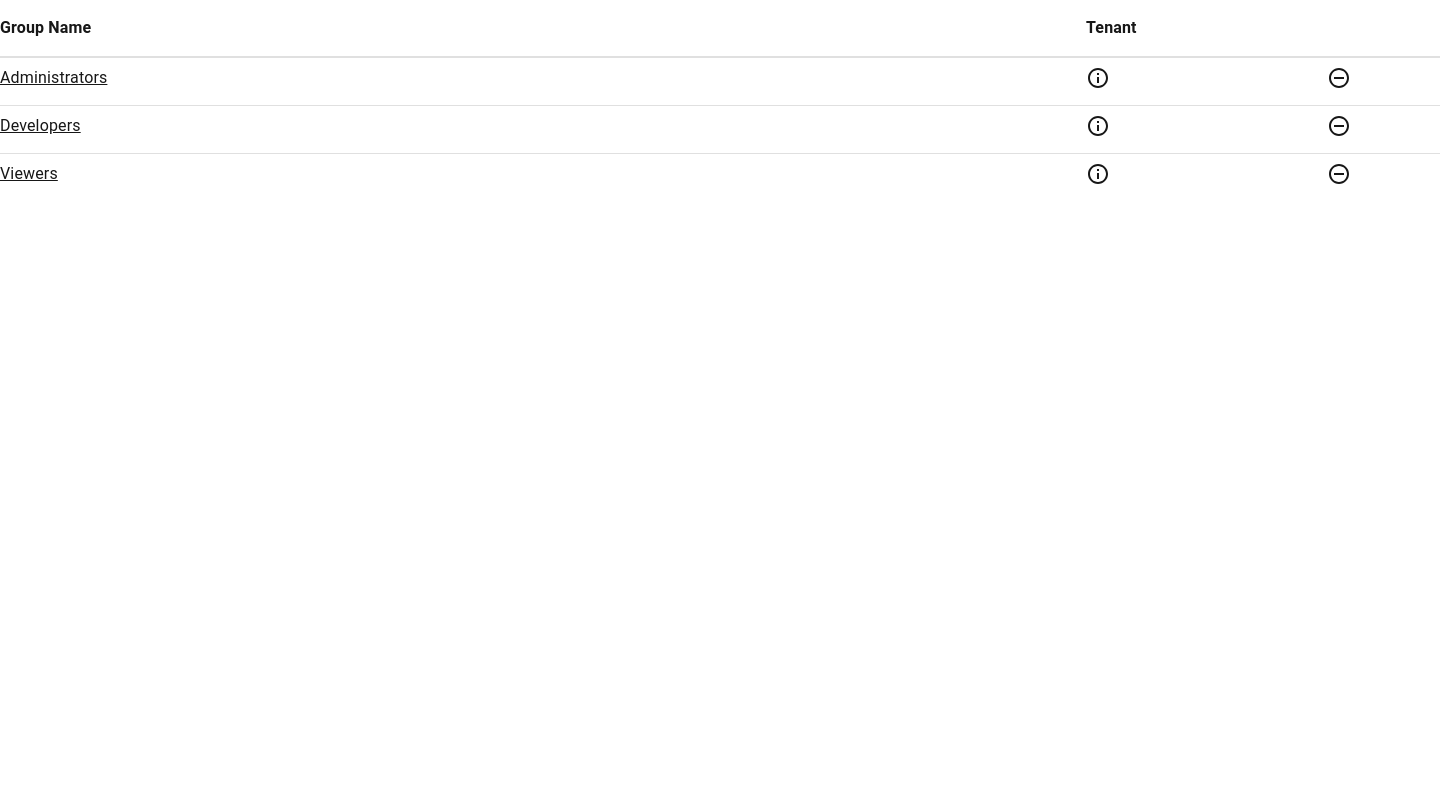
Test case: UserAuthorizationGroupConfiguration › Remove Authorization Group Functionality › should close remove dialog when cancel is clicked
The width and height of the screenshot is (1440, 810).
expect the link "Administrators" is shown: met, box [0, 68, 107, 87]
Click the 1st icon with test id "RemoveCircleOutlineIcon" at {"x": 1339, "y": 78}, box [1327, 66, 1351, 90]
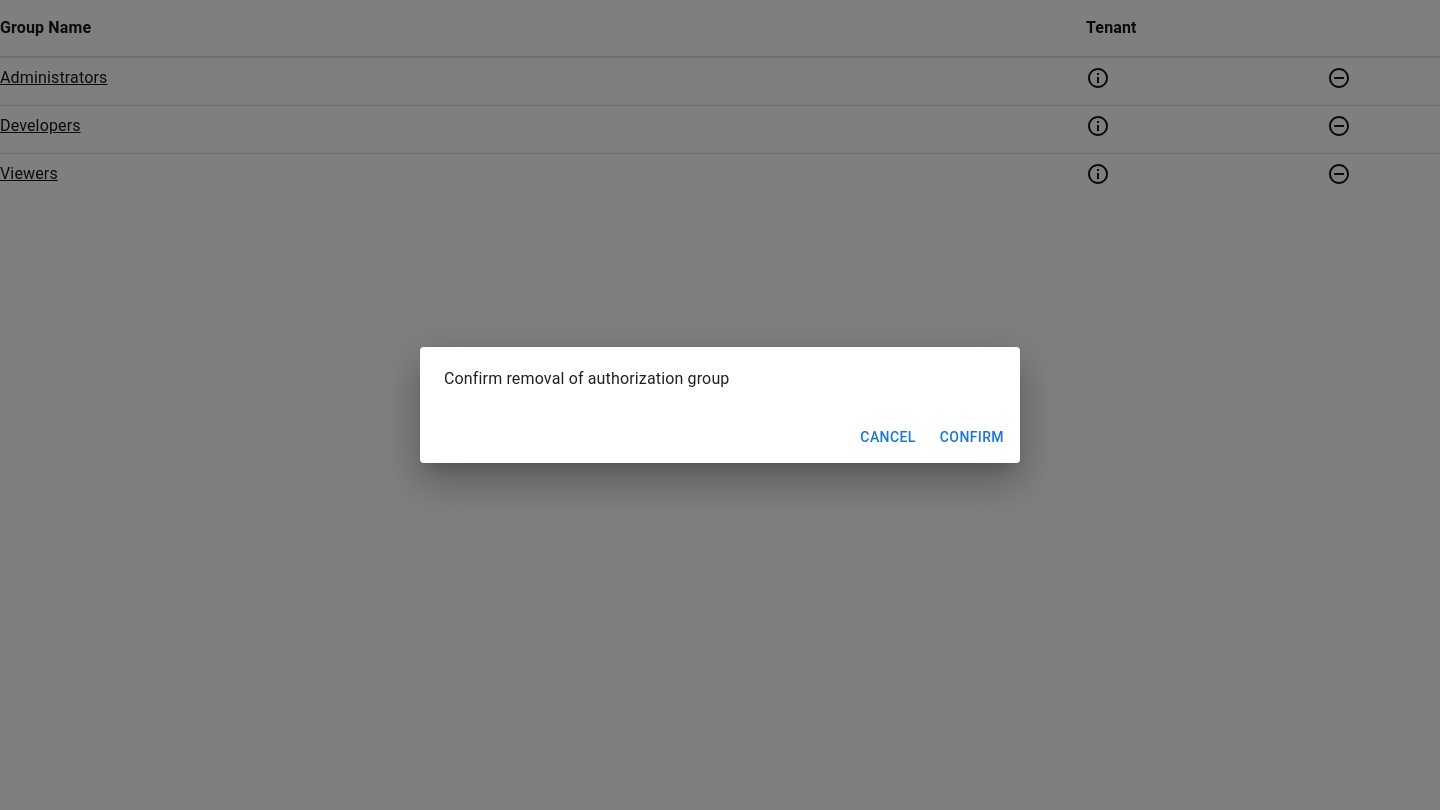
expect the text "Confirm removal of authorization group" is shown: met, box [444, 369, 730, 388]
Click the button "Cancel" at {"x": 888, "y": 437}, box [852, 419, 924, 455]
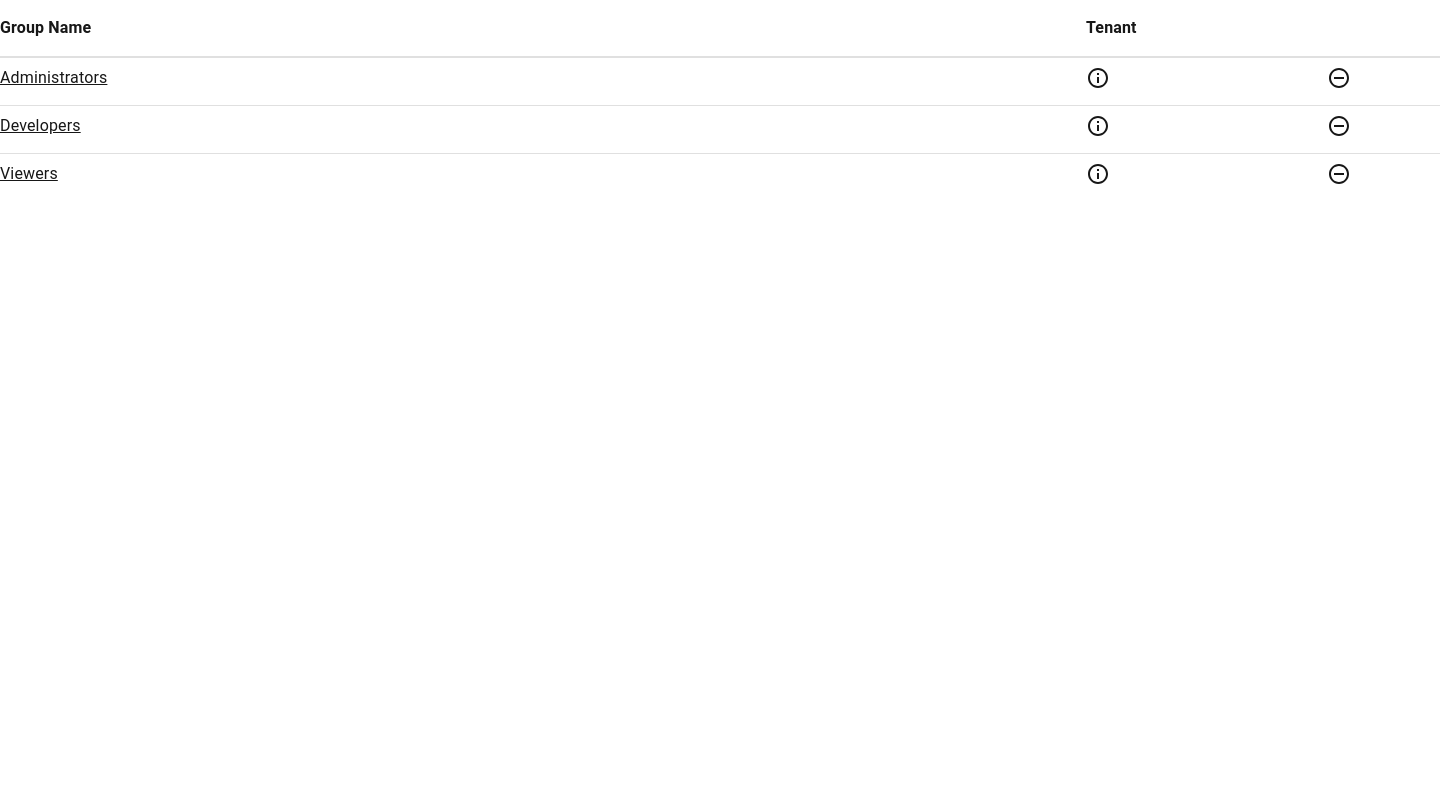
expect the text "Confirm removal of authorization group" is gone: met
